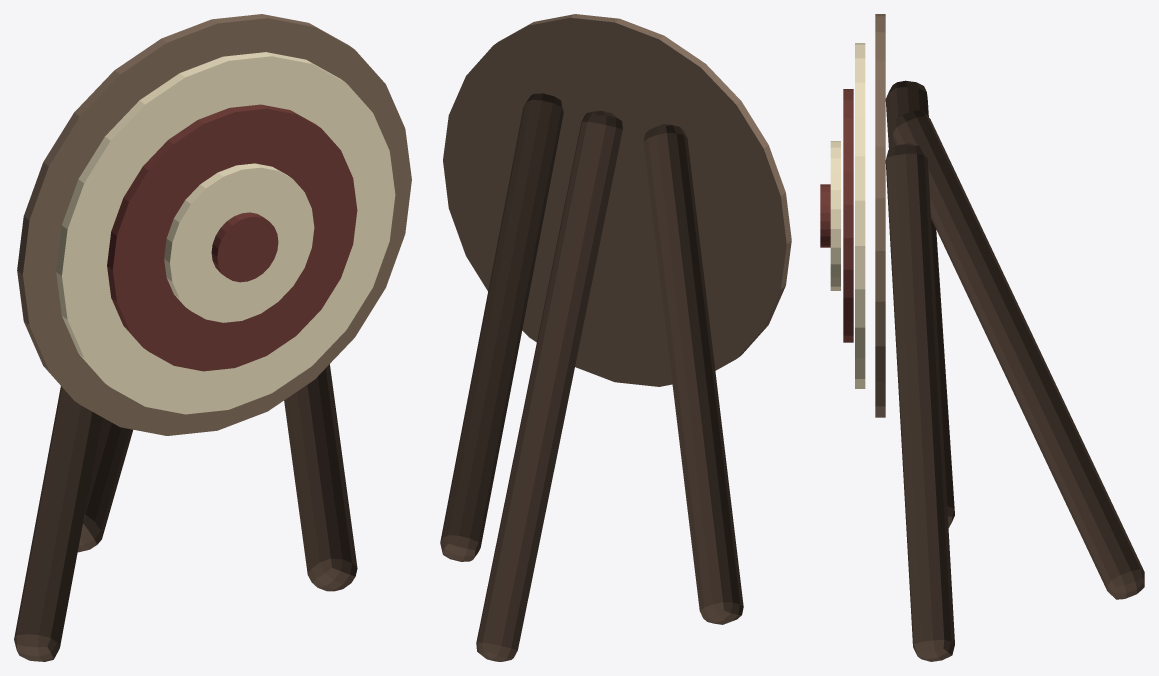
Rendered from kit_target.glb.
The picture shows the model from 3 angles, left to right: view 1: azimuth 30°, elevation 25°; view 2: azimuth 150°, elevation 25°; view 3: azimuth 270°, elevation 25°; orthographic projection. The views are drawn at different scales.
Parts seen in each view (by area): view 1: Target ring.001, Target ring, Target ring.002, Target ring.003, Target tripod leg, Target tripod leg.001, Target ring.004, Target rear leg; view 2: Target ring, Target rear leg, Target tripod leg, Target tripod leg.001; view 3: Target tripod leg.001, Target rear leg, Target ring, Target ring.001, Target tripod leg, Target ring.002, Target ring.003, Target ring.004.
Part boxes in pixels (<box>): Target ring.001: <box>56,52,395,414</box>; Target ring: <box>17,14,411,435</box>; Target ring.002: <box>107,104,357,371</box>; Target ring.003: <box>164,163,314,322</box>; Target tripod leg: <box>14,386,102,661</box>; Target tripod leg.001: <box>284,364,357,591</box>; Target ring.004: <box>211,212,278,282</box>; Target rear leg: <box>77,418,132,552</box>; Target ring: <box>443,14,791,386</box>; Target rear leg: <box>476,110,622,661</box>; Target tripod leg: <box>643,124,743,624</box>; Target tripod leg.001: <box>440,93,563,561</box>; Target tripod leg.001: <box>885,143,954,661</box>; Target rear leg: <box>893,110,1144,599</box>; Target ring: <box>875,14,885,417</box>; Target ring.001: <box>855,43,865,388</box>; Target tripod leg: <box>885,80,954,527</box>; Target ring.002: <box>843,89,853,342</box>; Target ring.003: <box>830,141,840,290</box>; Target ring.004: <box>820,184,830,247</box>.
Bounding box in the file's own units: 0.7 × 1.07 × 0.5606.
